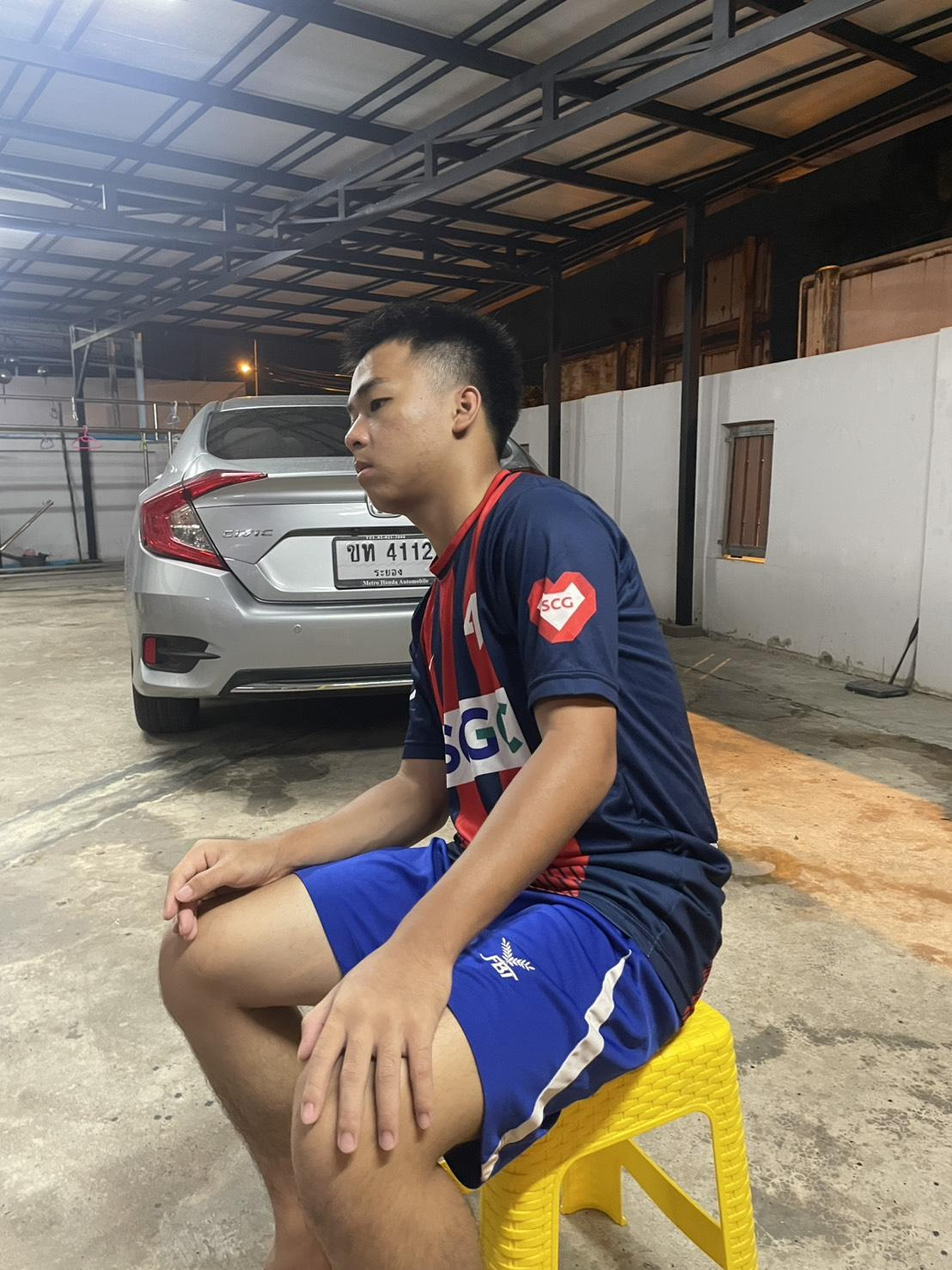BadPosture: (405, 474, 729, 1010)
